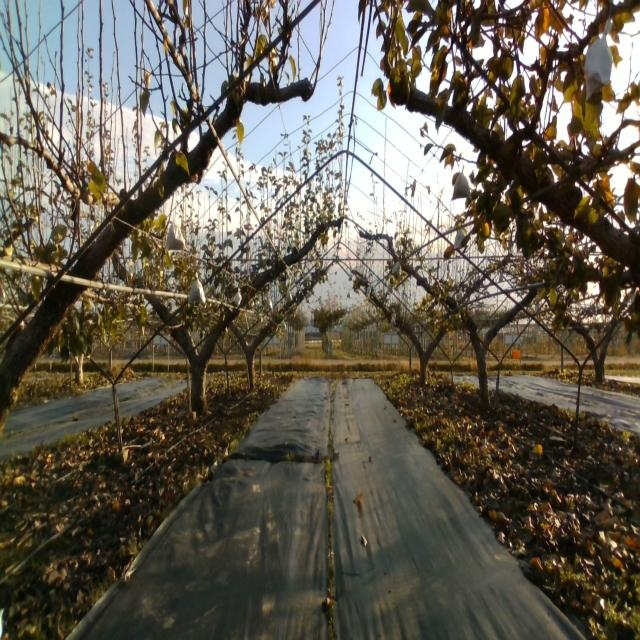pearbags: (584, 18, 613, 102), (165, 220, 187, 253), (452, 165, 471, 201), (188, 270, 206, 304), (454, 229, 466, 250)
